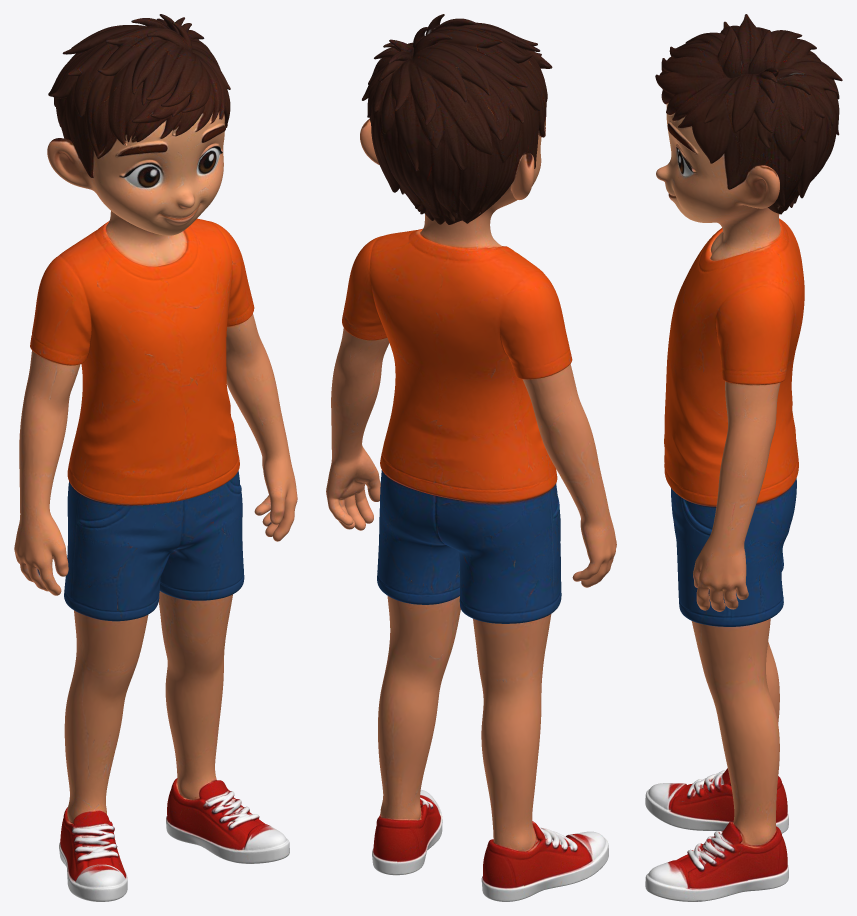
File: figur.glb
The picture shows the model from 3 angles, left to right: view 1: azimuth 30°, elevation 25°; view 2: azimuth 150°, elevation 25°; view 3: azimuth 270°, elevation 25°; orthographic projection. The views are drawn at different scales.
Size of the model in its own units: 0.6571 by 1.9 by 0.4107.
Materials: 1 (1 with a texture image).
